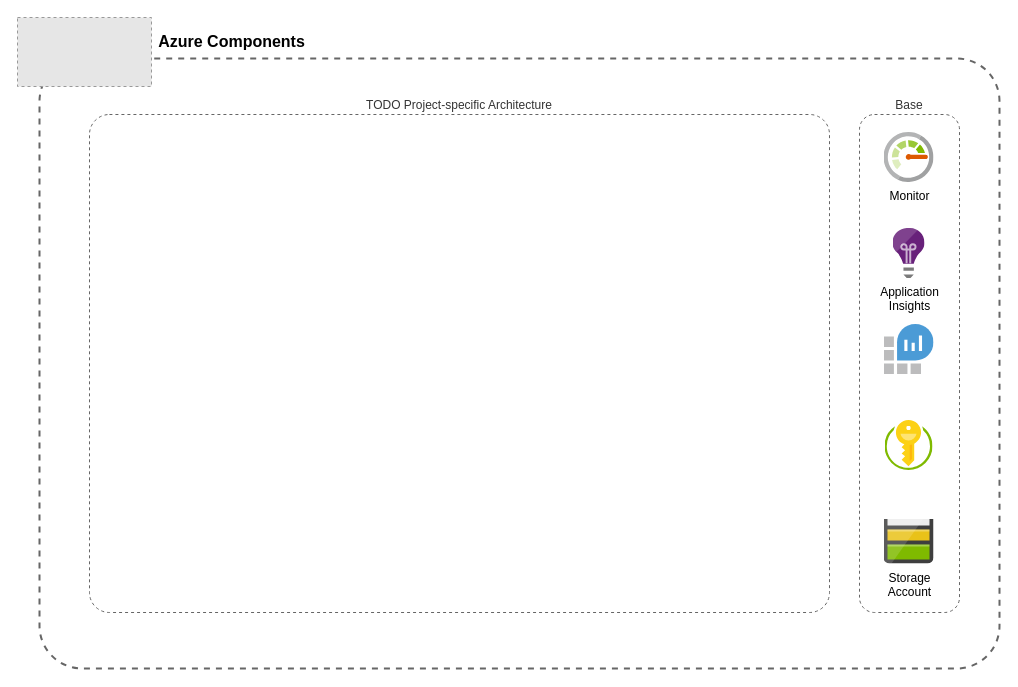
Some shapes in this 1018 by 687 pixel diagram are drawn without their labels. Grey dashed boxes stand in for pictures. Each missing label, with the centre of its shape:
"Key Vault" goes at pixel 908 445.
"Log Analytics" goes at pixel 909 349.
